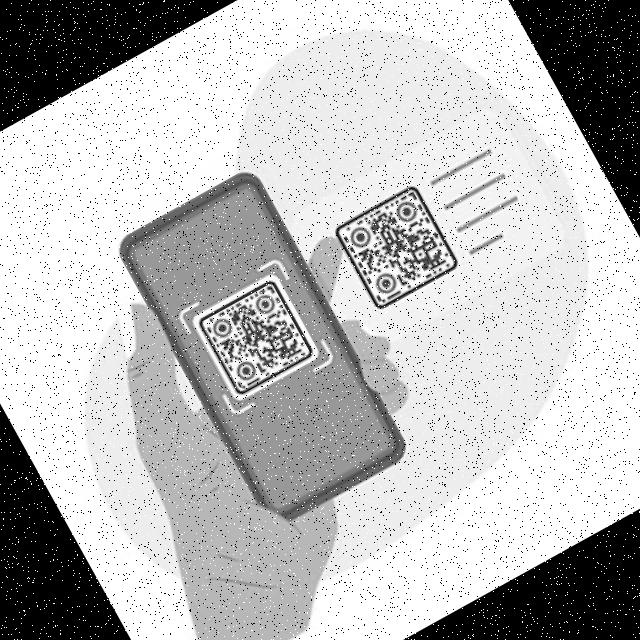QR-codes: (332, 182, 462, 314), (197, 276, 316, 398)
